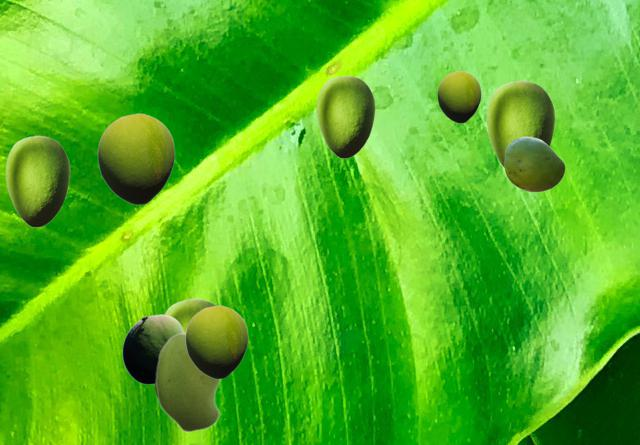green_mango: (97, 113, 174, 204), (155, 332, 221, 432), (486, 80, 554, 168), (5, 135, 69, 226), (316, 75, 374, 157), (185, 305, 247, 378), (122, 314, 183, 383), (504, 136, 564, 191), (437, 71, 480, 122), (164, 298, 215, 331)
